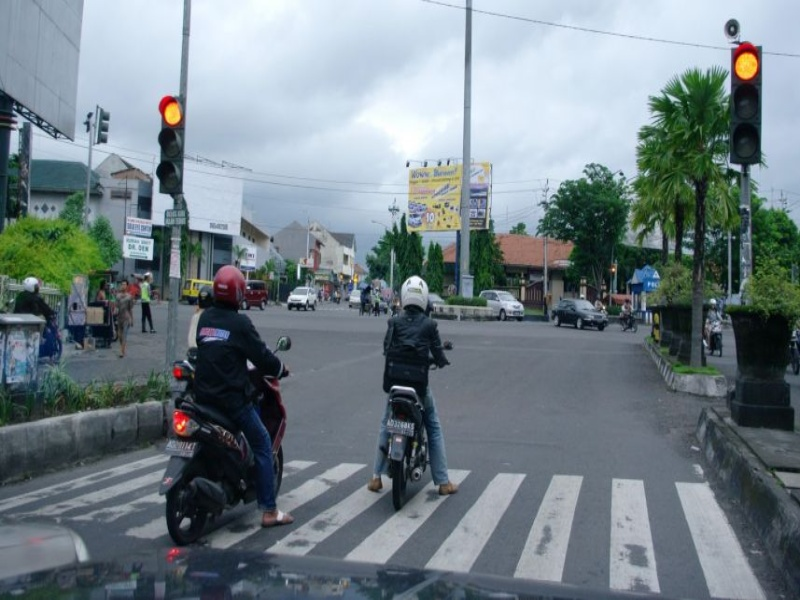zebra cross: (10, 452, 767, 600)
